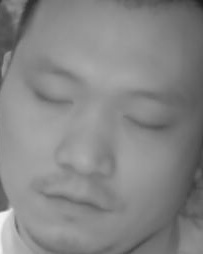blink: (123, 111, 165, 134), (33, 85, 72, 109)
mouth: (40, 185, 111, 220)
